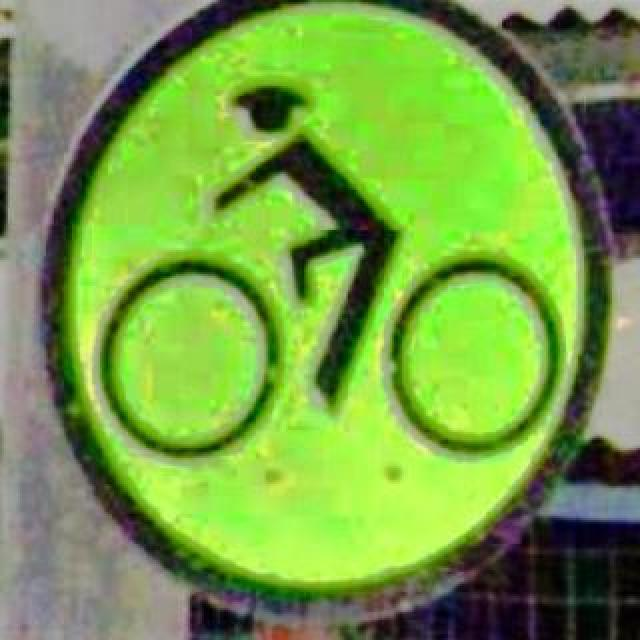bike lane: (36, 0, 612, 622)
